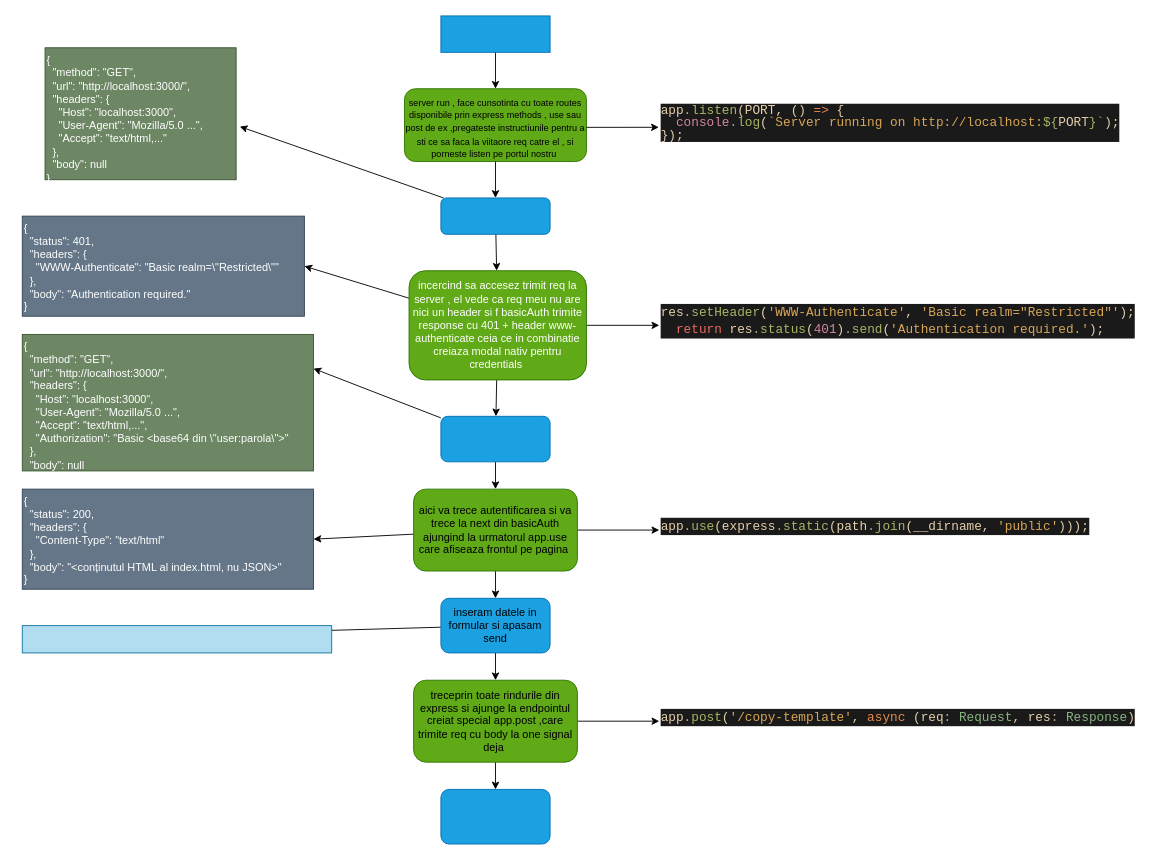
This 1151x860 diagram has some shape labels left out. The shapes that lost their labels are listed below. From the top down, each one's box as (x1, y1, x2, y2) in pixels, then its label:
(440, 15, 550, 52): npm start
(440, 197, 550, 234): localhost:PORT
(440, 415, 550, 462): inseram datele si retrimitem alt req cu date pentru auth
(21, 625, 332, 653): fetch('/copy-template', { method: 'POST', ... })
(440, 789, 550, 844): send the result to front succes or err
